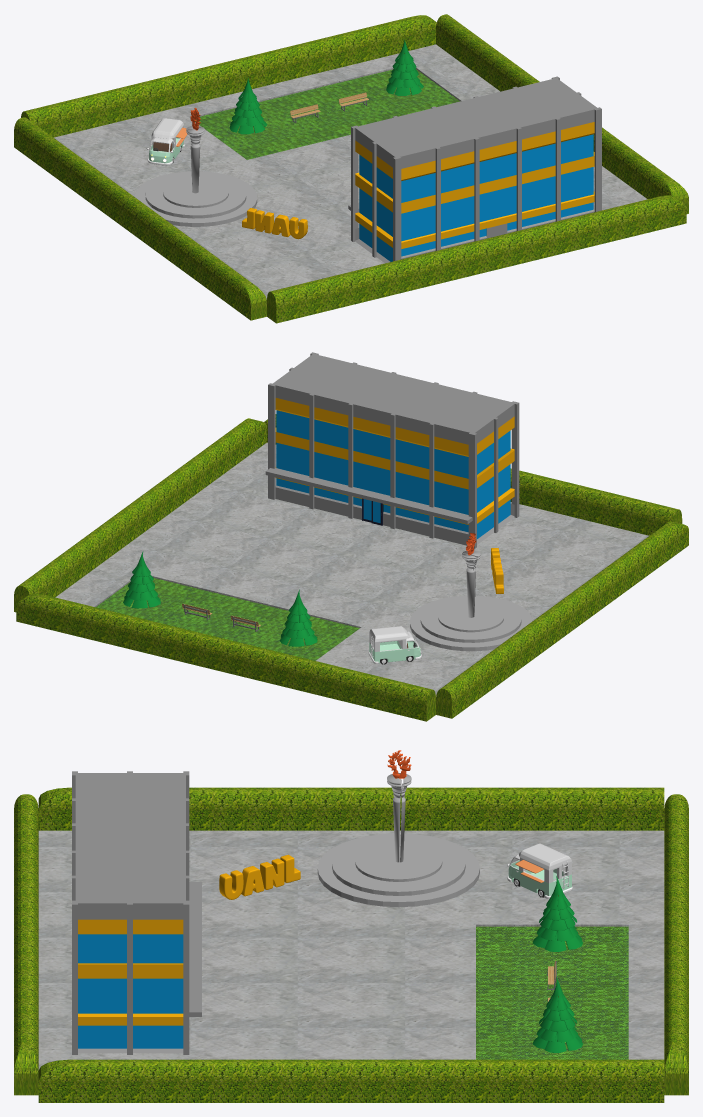
Rendered from Scenario1.glb.
3 renders of one model, top to bottom at view 1: azimuth 30°, elevation 25°; view 2: azimuth 150°, elevation 25°; view 3: azimuth 270°, elevation 25°, orthographic. The views are drawn at different scales.
Parts seen in each view (by area): view 1: Plane, Cube.016, Cube.002, Cube.004, Cube, Cube.003, Cylinder, Object_4, A:U_text_0, Object_2.001, Object_2, Cube.001; view 2: Plane, Cube.016, Cube.004, Cube, Cube.003, Cube.002, Cylinder, Object_4, Object_2, Object_2.001, Cube.001; view 3: Plane, Cube.016, Cube.003, Cube, Cylinder, Cube.002, Cube.004, Object_4, A:U_text_0, Object_2.001, Object_2, Cube.001.
Part boxes in pixels (x1,y1,x2,y2): Plane: (54, 44, 647, 299); Cube.016: (348, 76, 601, 263); Cube.002: (267, 195, 686, 323); Cube.004: (21, 15, 436, 137); Cube: (14, 117, 266, 320); Cube.003: (436, 14, 688, 213); Cylinder: (134, 171, 257, 226); Object_4: (146, 118, 187, 165); A:U_text_0: (242, 208, 307, 239); Object_2.001: (386, 40, 423, 95); Object_2: (229, 78, 267, 134); Cube.001: (186, 108, 204, 193); Plane: (55, 442, 649, 696); Cube.016: (265, 352, 519, 548); Cube.004: (16, 593, 435, 721); Cube: (436, 521, 688, 718); Cube.003: (14, 418, 266, 612); Cube.002: (264, 414, 682, 535); Cylinder: (410, 595, 532, 651); Object_4: (368, 626, 421, 664); Object_2: (280, 589, 317, 646); Object_2.001: (123, 551, 160, 608); Cube.001: (462, 533, 480, 617); Plane: (38, 830, 664, 1069); Cube.016: (72, 771, 201, 1054); Cube.003: (38, 1059, 664, 1102); Cube: (38, 787, 664, 830); Cylinder: (317, 833, 479, 907); Cube.002: (14, 794, 38, 1095); Cube.004: (664, 794, 688, 1095); Object_4: (507, 843, 572, 898); A:U_text_0: (219, 854, 300, 899); Object_2.001: (533, 977, 582, 1053); Object_2: (532, 876, 582, 952); Cube.001: (387, 750, 411, 862).
Size of the model in its own units: 12.11 by 3.04 by 12.23.
25 materials, 7 textured.
